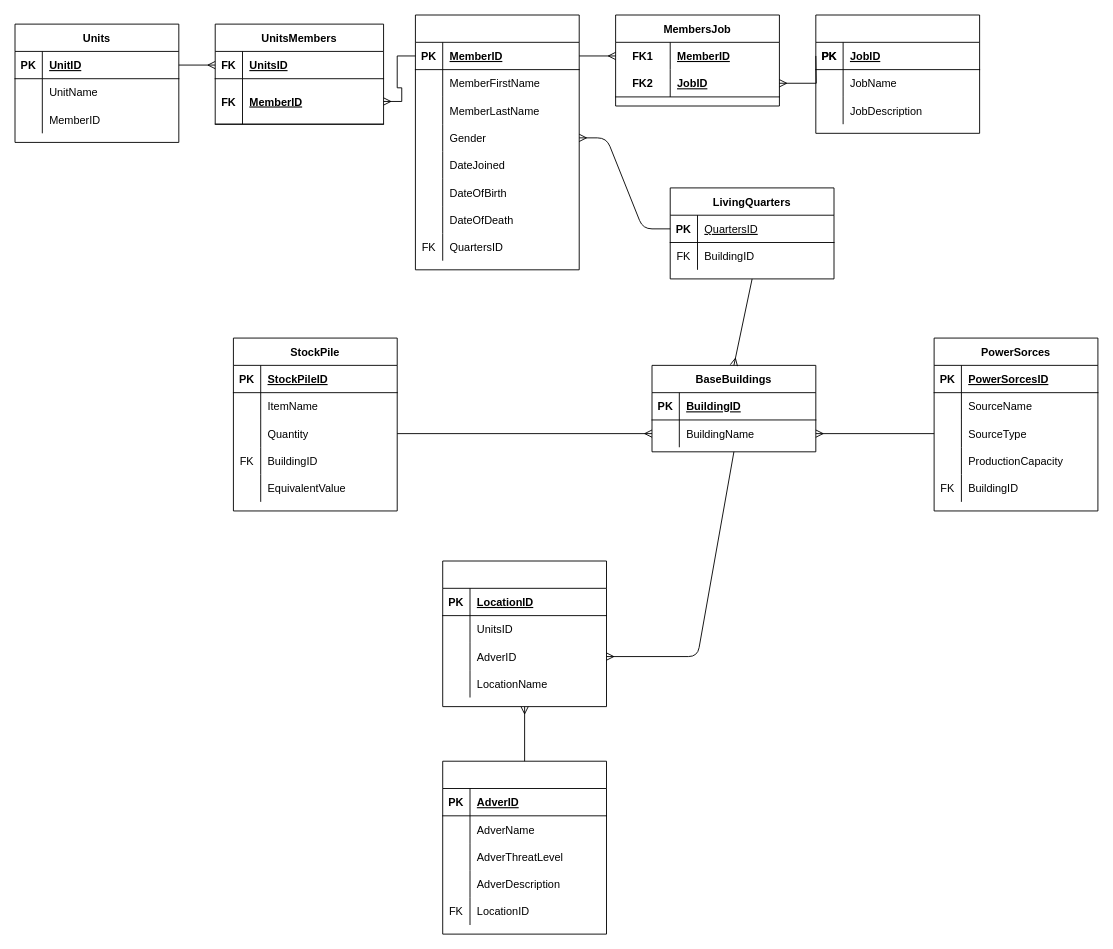
The diagram is 1113 pixels wide and 949 high, and some of its shapes have lost their labels. The box of each missing label's shape, as (x1, y1, x2, y2) in pixels:
Adversaries: (442, 760, 607, 934)
Jobs: (815, 14, 980, 133)
Locations: (442, 560, 607, 707)
Members: (415, 14, 579, 270)
